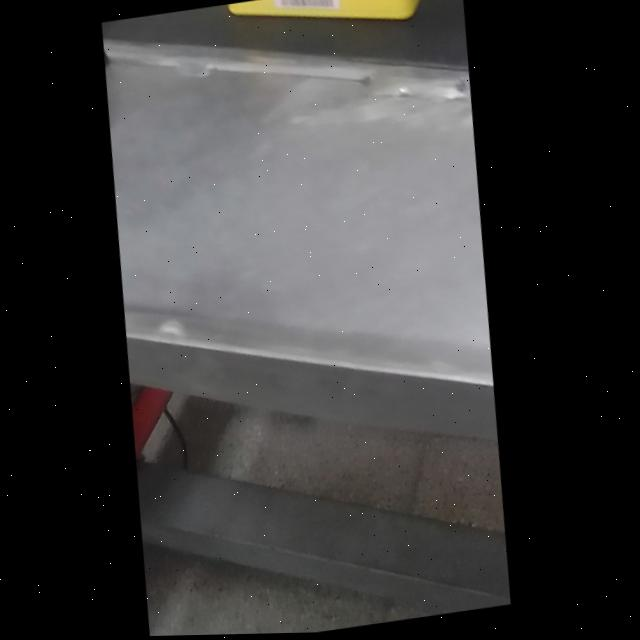yellowBox: (210, 0, 465, 50)
